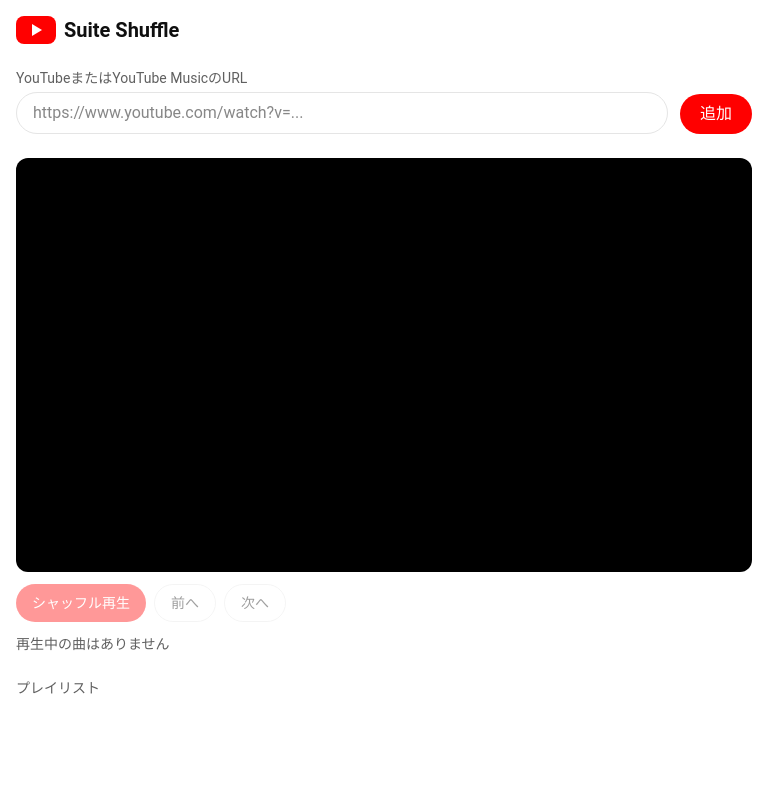
Test: App › 1曲だけのTrackGroupには、曲を取り出すためのドラッグハンドルを表示しない
In the field labelled "YouTubeまたはYouTube MusicのURL": (342, 113) [16,92,668,134], type "https://www.youtube.com/watch?v=aaaaaaaaaaa"
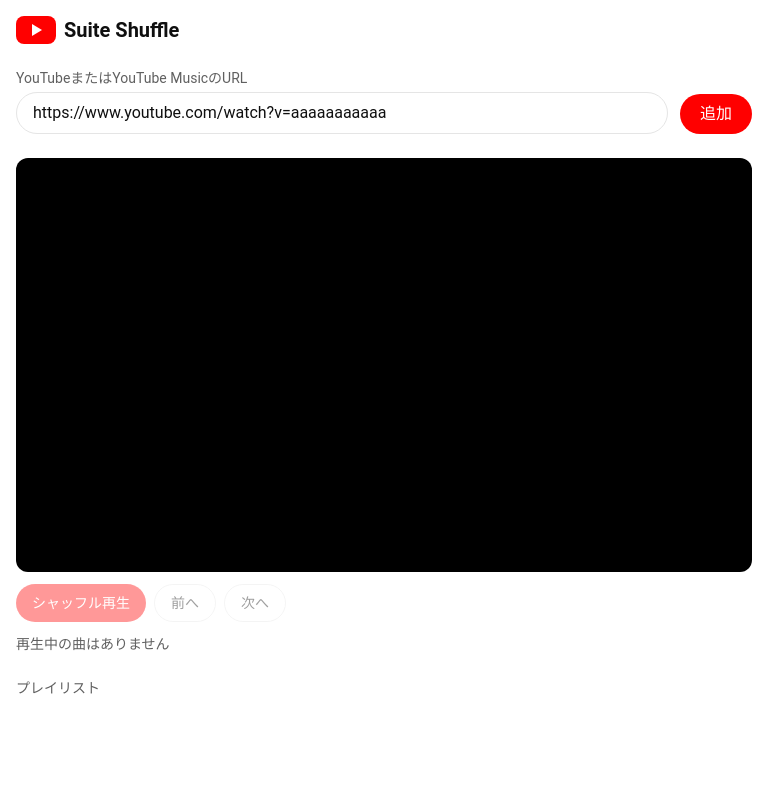
Click the button "追加": (716, 114) [680,94,752,134]
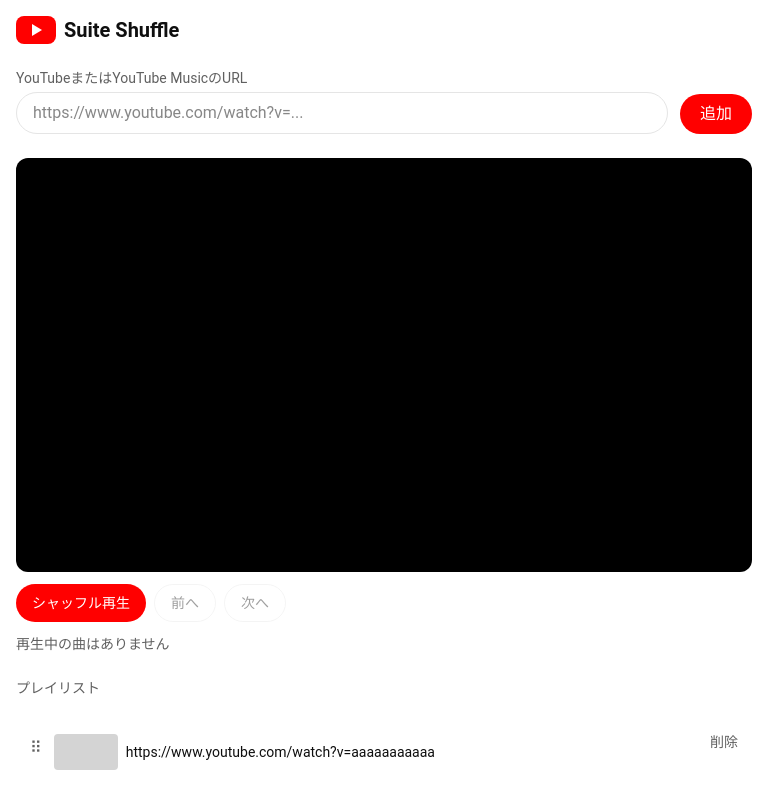
Check: the button named "TrackGroupを移動してドラッグで結合" is shown, box [30,736,42,760]
